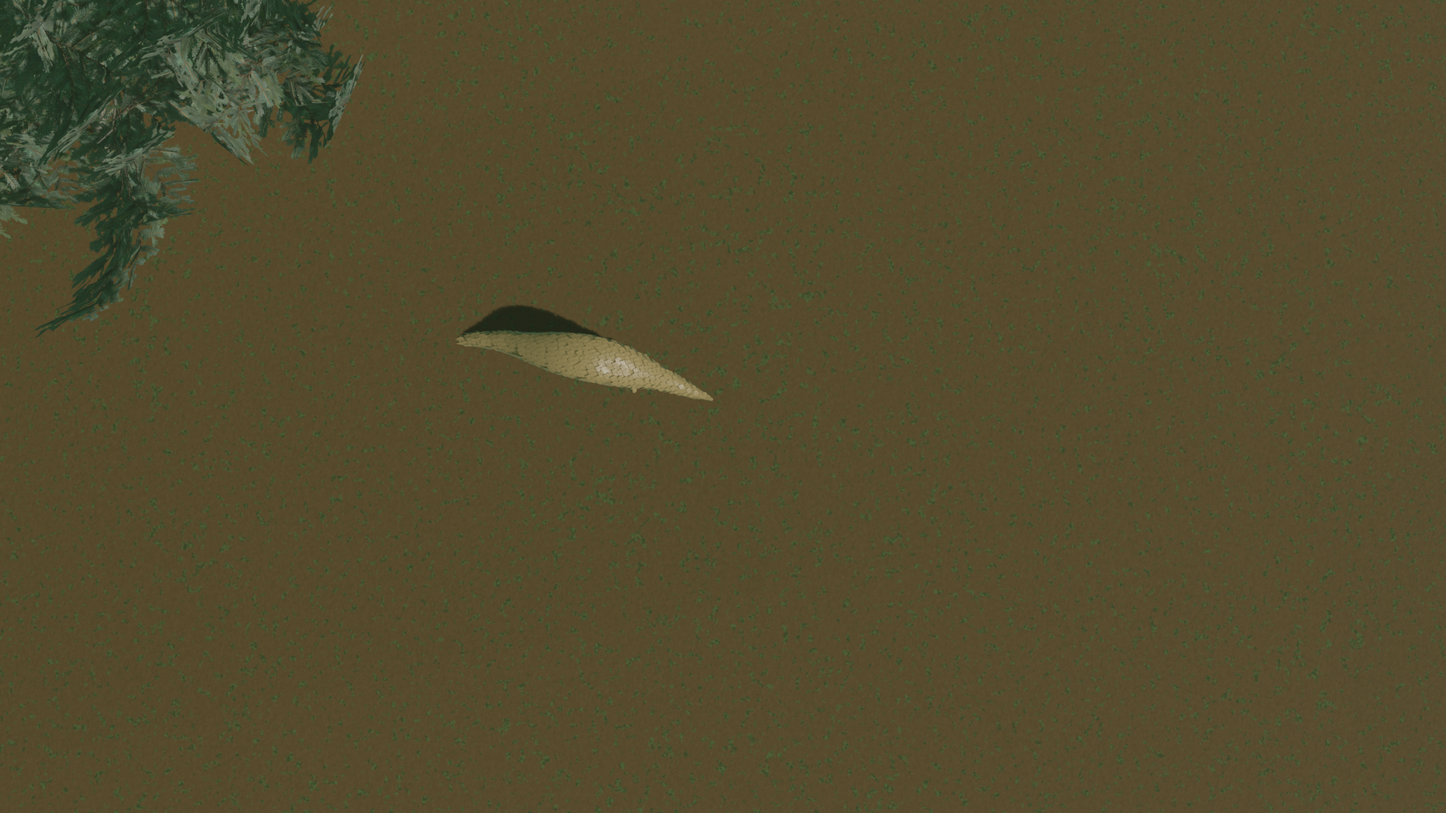pangolin: (395, 268, 716, 454)
